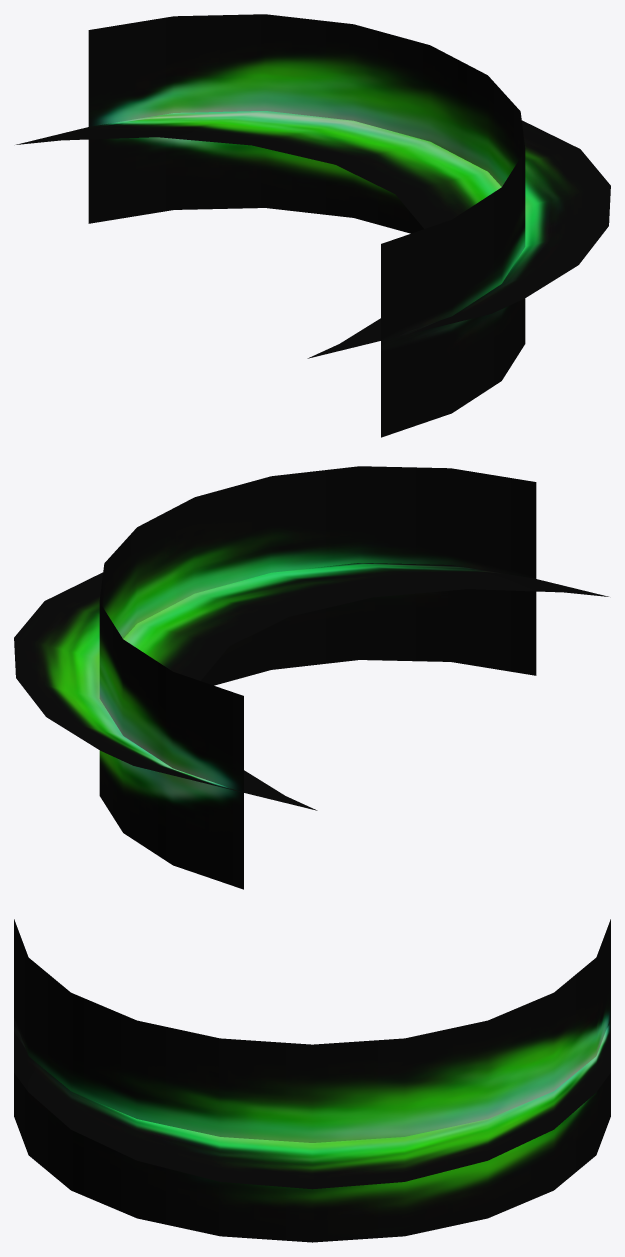
The model's file is slash.fbx.
The picture shows the model from 3 angles, top to bottom: view 1: azimuth 30°, elevation 25°; view 2: azimuth 150°, elevation 25°; view 3: azimuth 270°, elevation 25°; orthographic projection. The views are drawn at different scales.
Parts seen in each view (by area): view 1: slash; view 2: slash; view 3: slash.
Boxes of the visible parts, box(x1,y1,x2,y2) form: slash: box(16, 14, 610, 437); slash: box(14, 466, 608, 889); slash: box(14, 919, 610, 1242).
Size of the model in its own units: 1.66 by 0.7316 by 2.
Materials: 1 (1 with a texture image).
